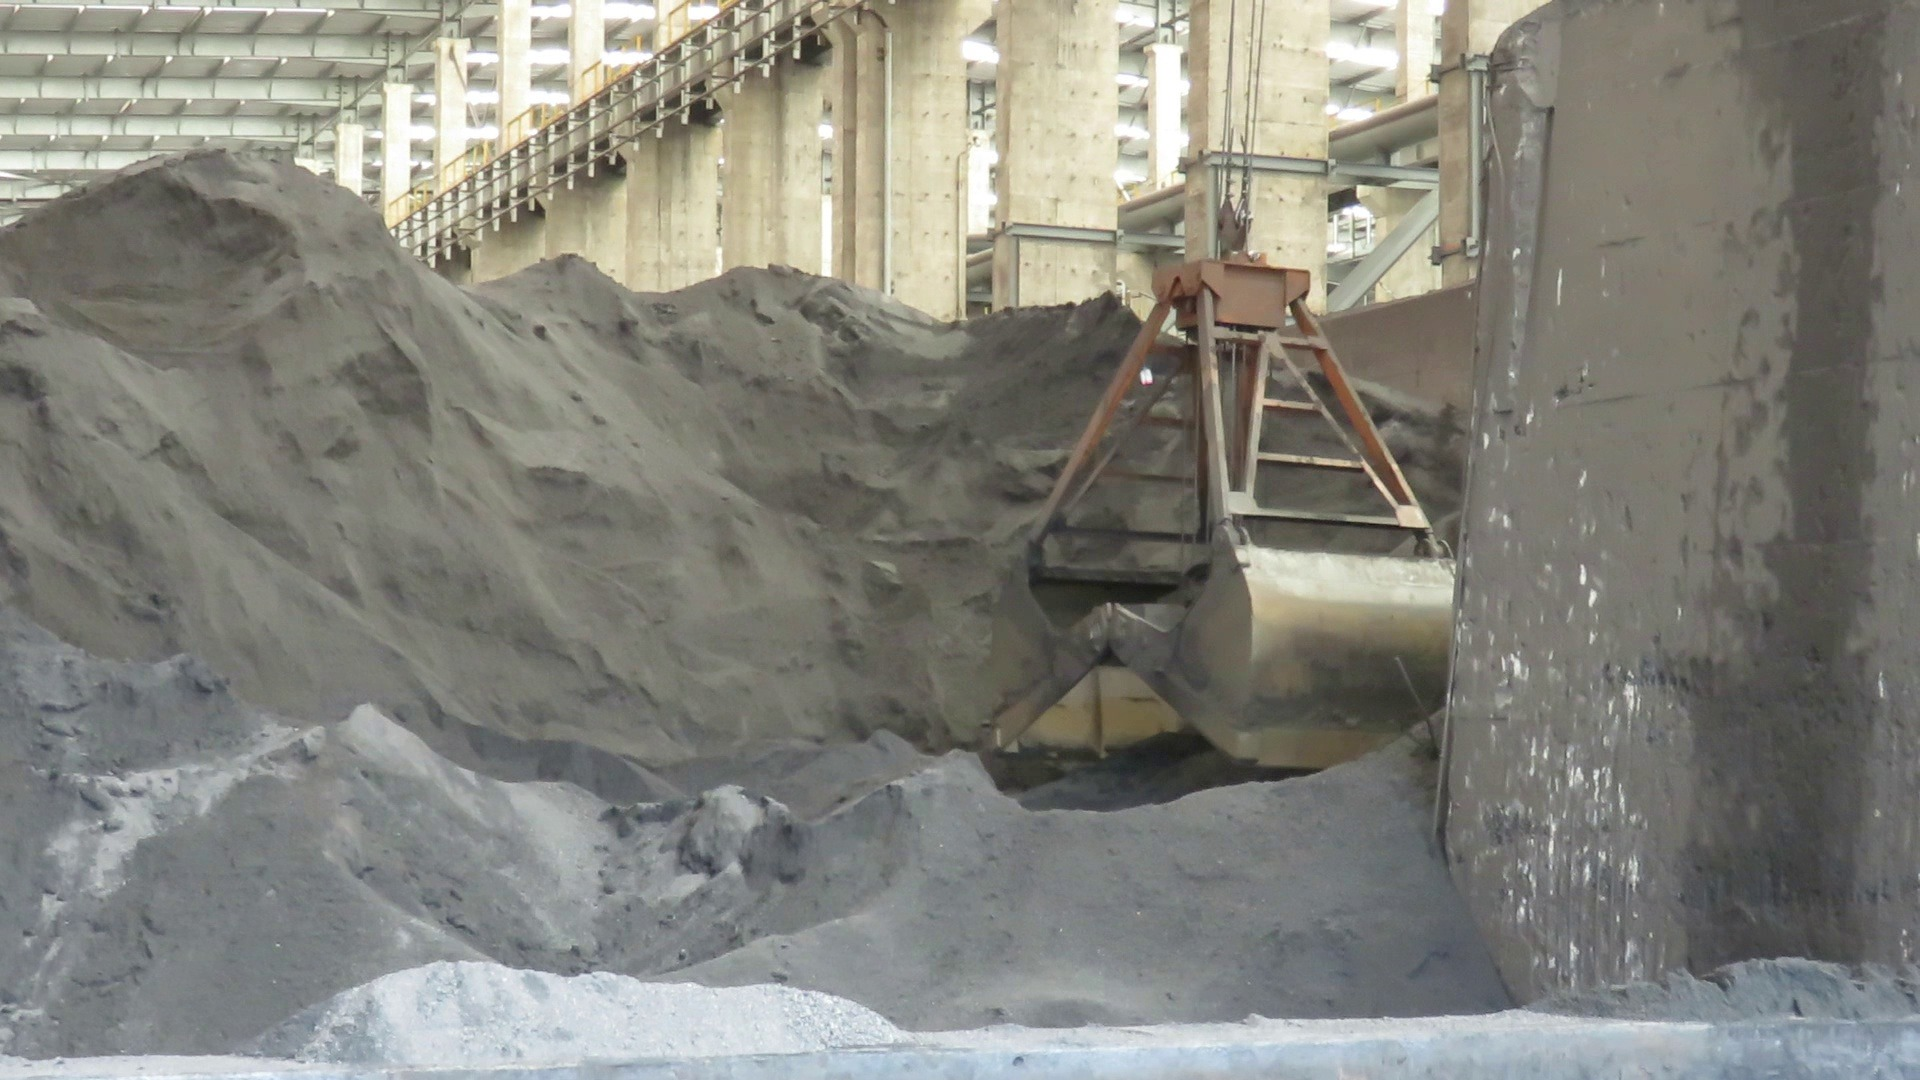grab: (957, 239, 1472, 807)
